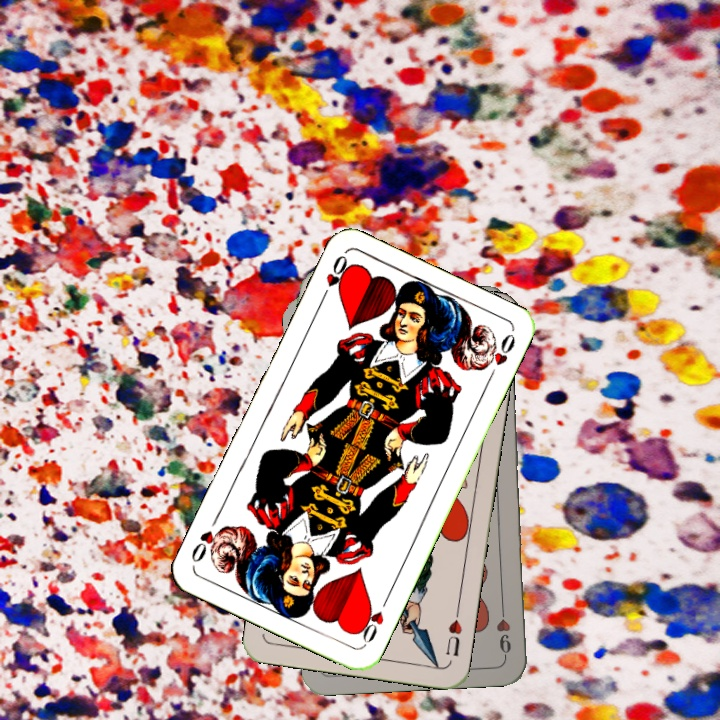H9: (492, 600, 514, 660)
HO: (353, 592, 392, 648), (315, 250, 351, 306)
HU: (442, 605, 465, 659)
